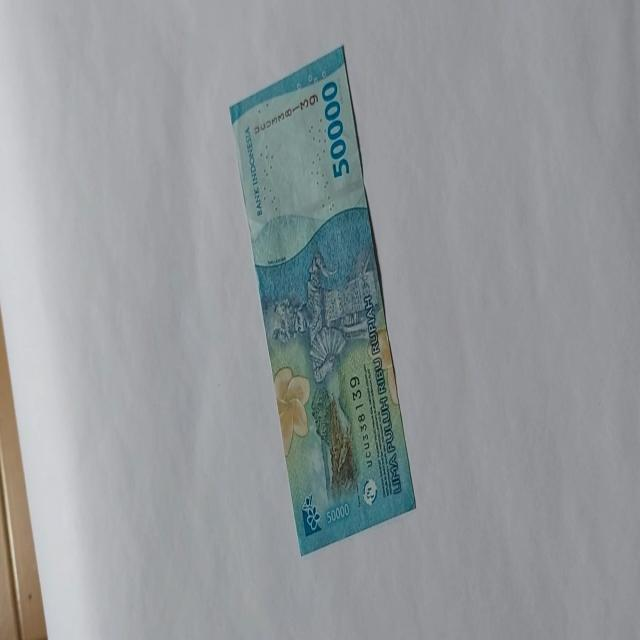lima puluh ribu rupiah: (228, 42, 417, 556)
